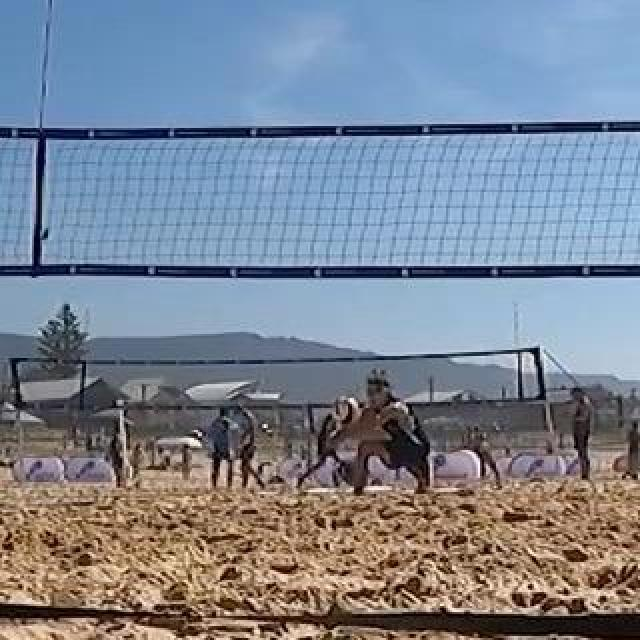volleyball: (337, 399, 363, 425)
